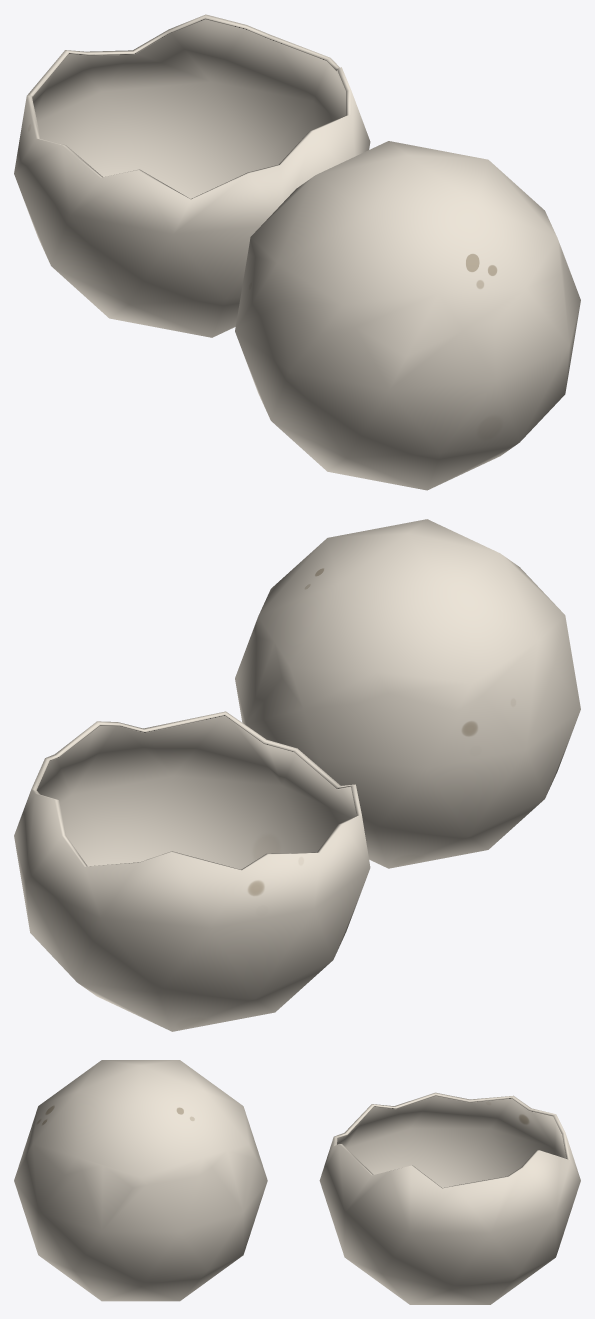
File: SeaTurtleEggs.fbx
3 views of the same model, one above another, from view 1: azimuth 30°, elevation 25°; view 2: azimuth 150°, elevation 25°; view 3: azimuth 270°, elevation 25° (orthographic). The views are drawn at different scales.
Visible parts, largest first — view 1: Egg_Whole, Egg_Hatched; view 2: Egg_Hatched, Egg_Whole; view 3: Egg_Whole, Egg_Hatched.
Boxes of the visible parts, box(x1,y1,x2,y2) form: Egg_Whole: box(235, 141, 580, 490); Egg_Hatched: box(14, 14, 370, 337); Egg_Hatched: box(14, 711, 370, 1031); Egg_Whole: box(235, 519, 580, 868); Egg_Whole: box(14, 1060, 267, 1301); Egg_Hatched: box(319, 1092, 580, 1304).
Bounding box in the file's own units: 196 × 203 × 447.
